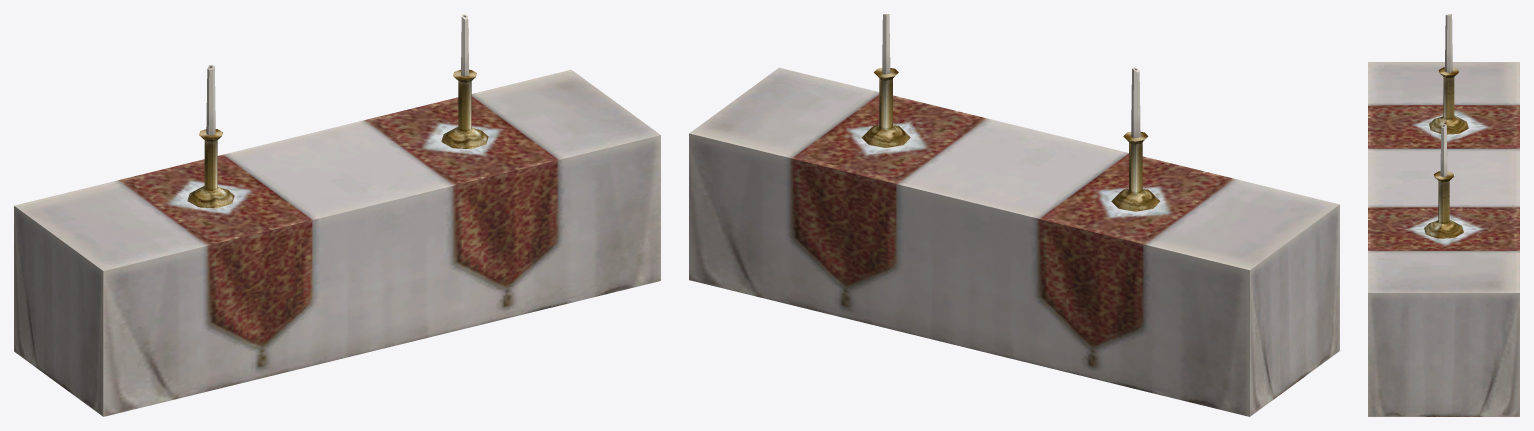
File: altar_table.fbx
3 renders of one model, left to right at view 1: azimuth 30°, elevation 25°; view 2: azimuth 150°, elevation 25°; view 3: azimuth 270°, elevation 25°, orthographic. The views are drawn at different scales.
Parts seen in each view (by area): view 1: mesh_0, mesh_2, mesh_1; view 2: mesh_0, mesh_2, mesh_1; view 3: mesh_0, mesh_2, mesh_1.
Boxes of the visible parts, left/top/right/bottom form: mesh_0: left=14, top=69, right=660, bottom=416; mesh_2: left=187, top=65, right=234, bottom=208; mesh_1: left=441, top=14, right=488, bottom=149; mesh_0: left=689, top=67, right=1339, bottom=416; mesh_2: left=1111, top=67, right=1160, bottom=211; mesh_1: left=861, top=14, right=910, bottom=147; mesh_0: left=1368, top=62, right=1519, bottom=416; mesh_2: left=1429, top=14, right=1468, bottom=134; mesh_1: left=1424, top=124, right=1463, bottom=238.
Size of the model in its own units: 360 by 171 by 100.
1 material, 1 textured.
